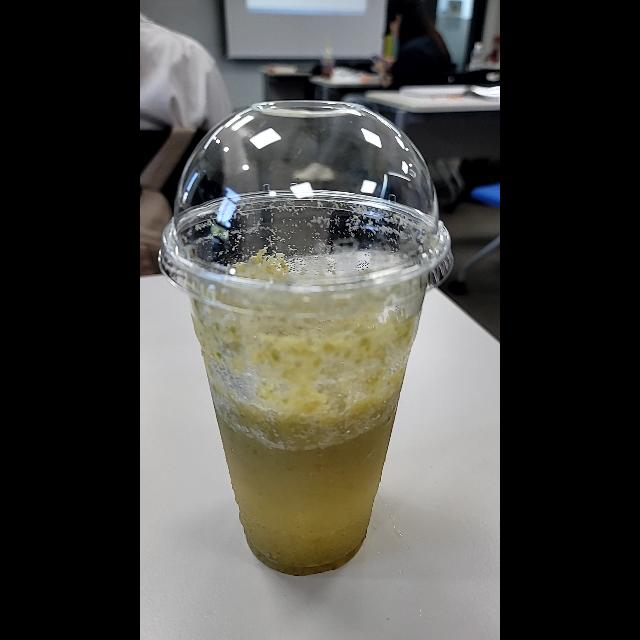plastic_cup: (161, 81, 457, 591)
plastic_cup_lid: (162, 86, 458, 324)
